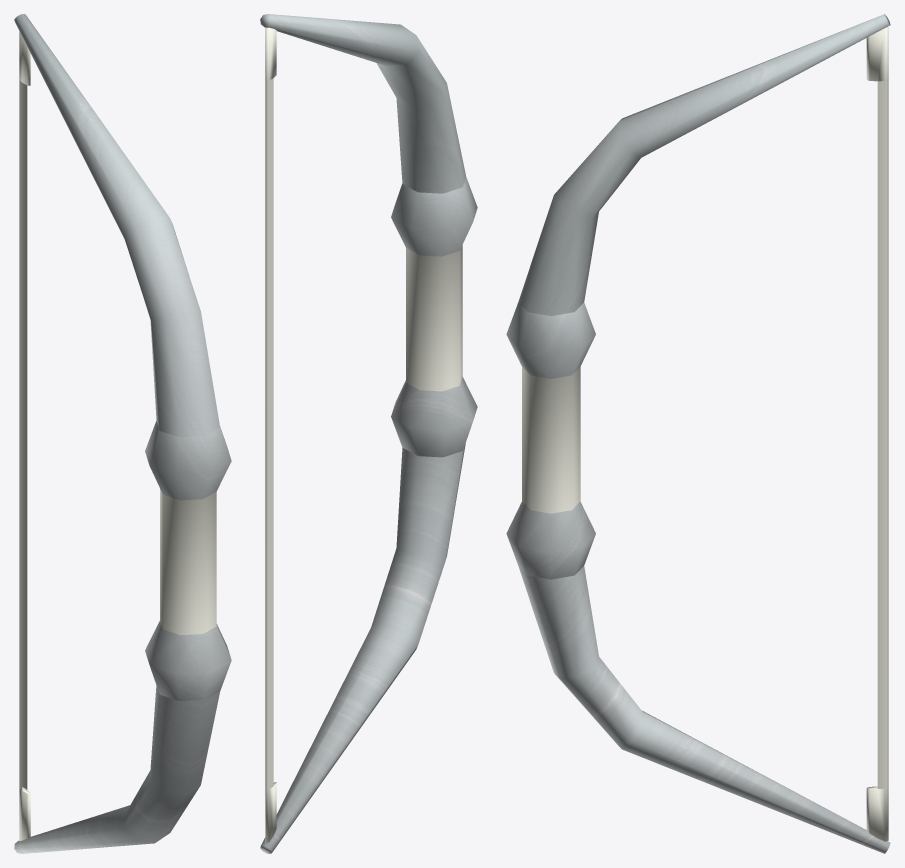
File: BowA.fbx
3 views of the same model, side by side, from view 1: azimuth 30°, elevation 25°; view 2: azimuth 150°, elevation 25°; view 3: azimuth 270°, elevation 25° (orthographic).
Parts seen in each view (by area): view 1: Bow A; view 2: Bow A; view 3: Bow A.
Part boxes in pixels (x1=…): Bow A: x1=14, y1=14, x2=231, y2=853; Bow A: x1=260, y1=14, x2=477, y2=853; Bow A: x1=506, y1=14, x2=890, y2=853.
Size of the model in its own units: 0.1373 by 1.42 by 0.588.
